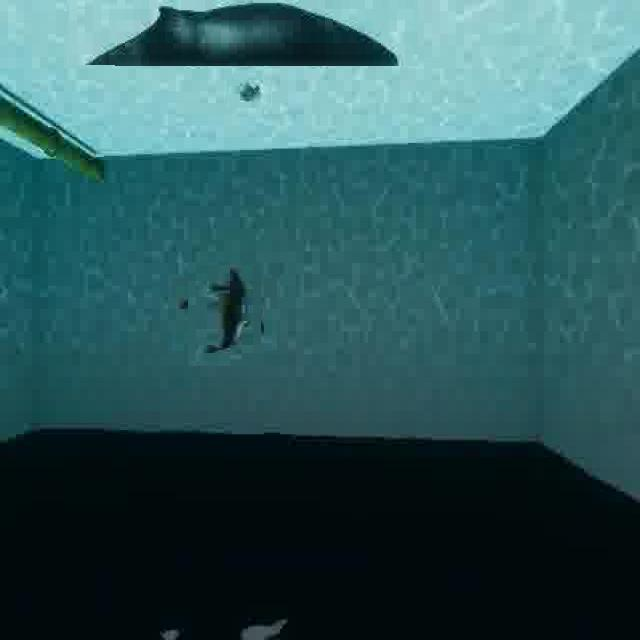Pipe: (0, 65, 115, 207)
Shell: (230, 75, 266, 112)
Whale: (66, 0, 418, 67), (180, 270, 269, 359)
